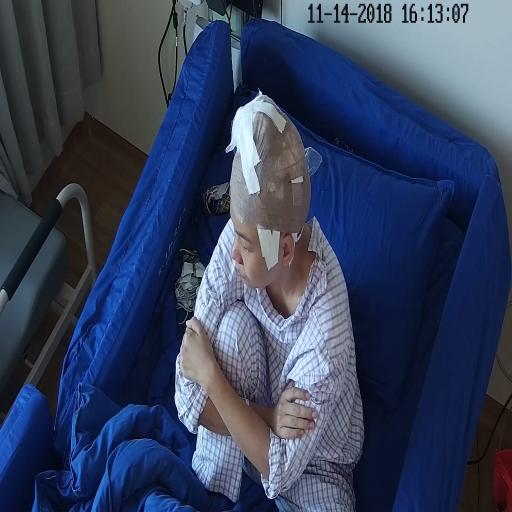Netural: (223, 147, 303, 294)
